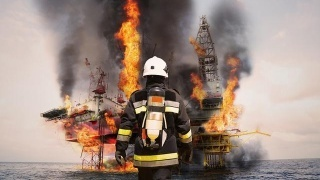fire: (53, 94, 128, 172), (188, 59, 243, 131), (116, 0, 141, 96)
